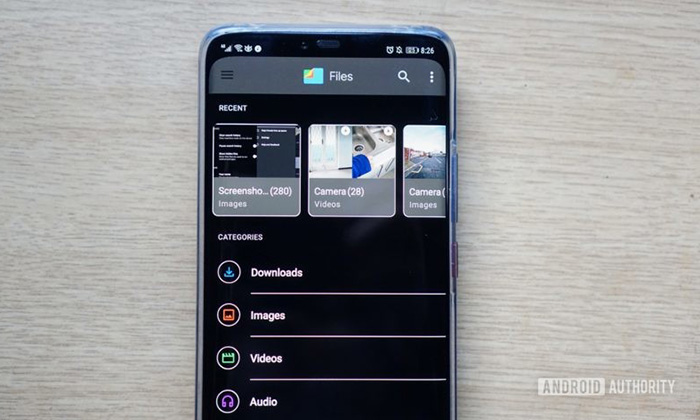Phone: (195, 22, 459, 420)
